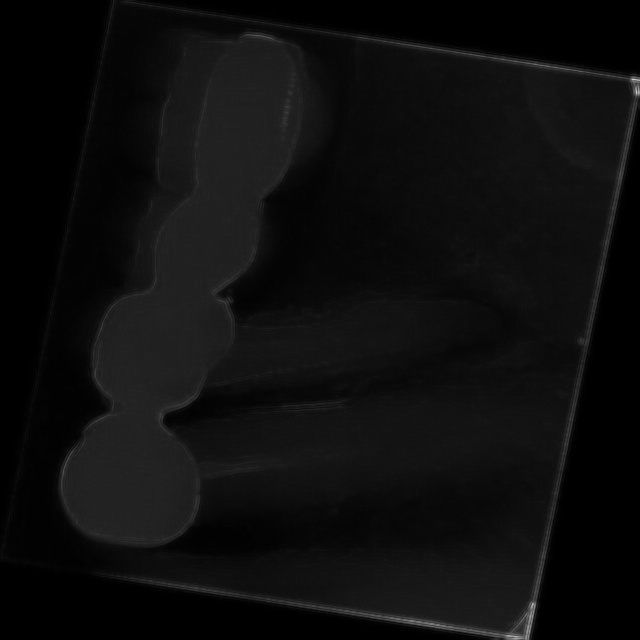Class 1- complete endodontic treatment: (26, 310, 566, 638)
Class 2- incomplete endodontic treatment: (59, 193, 557, 475)
